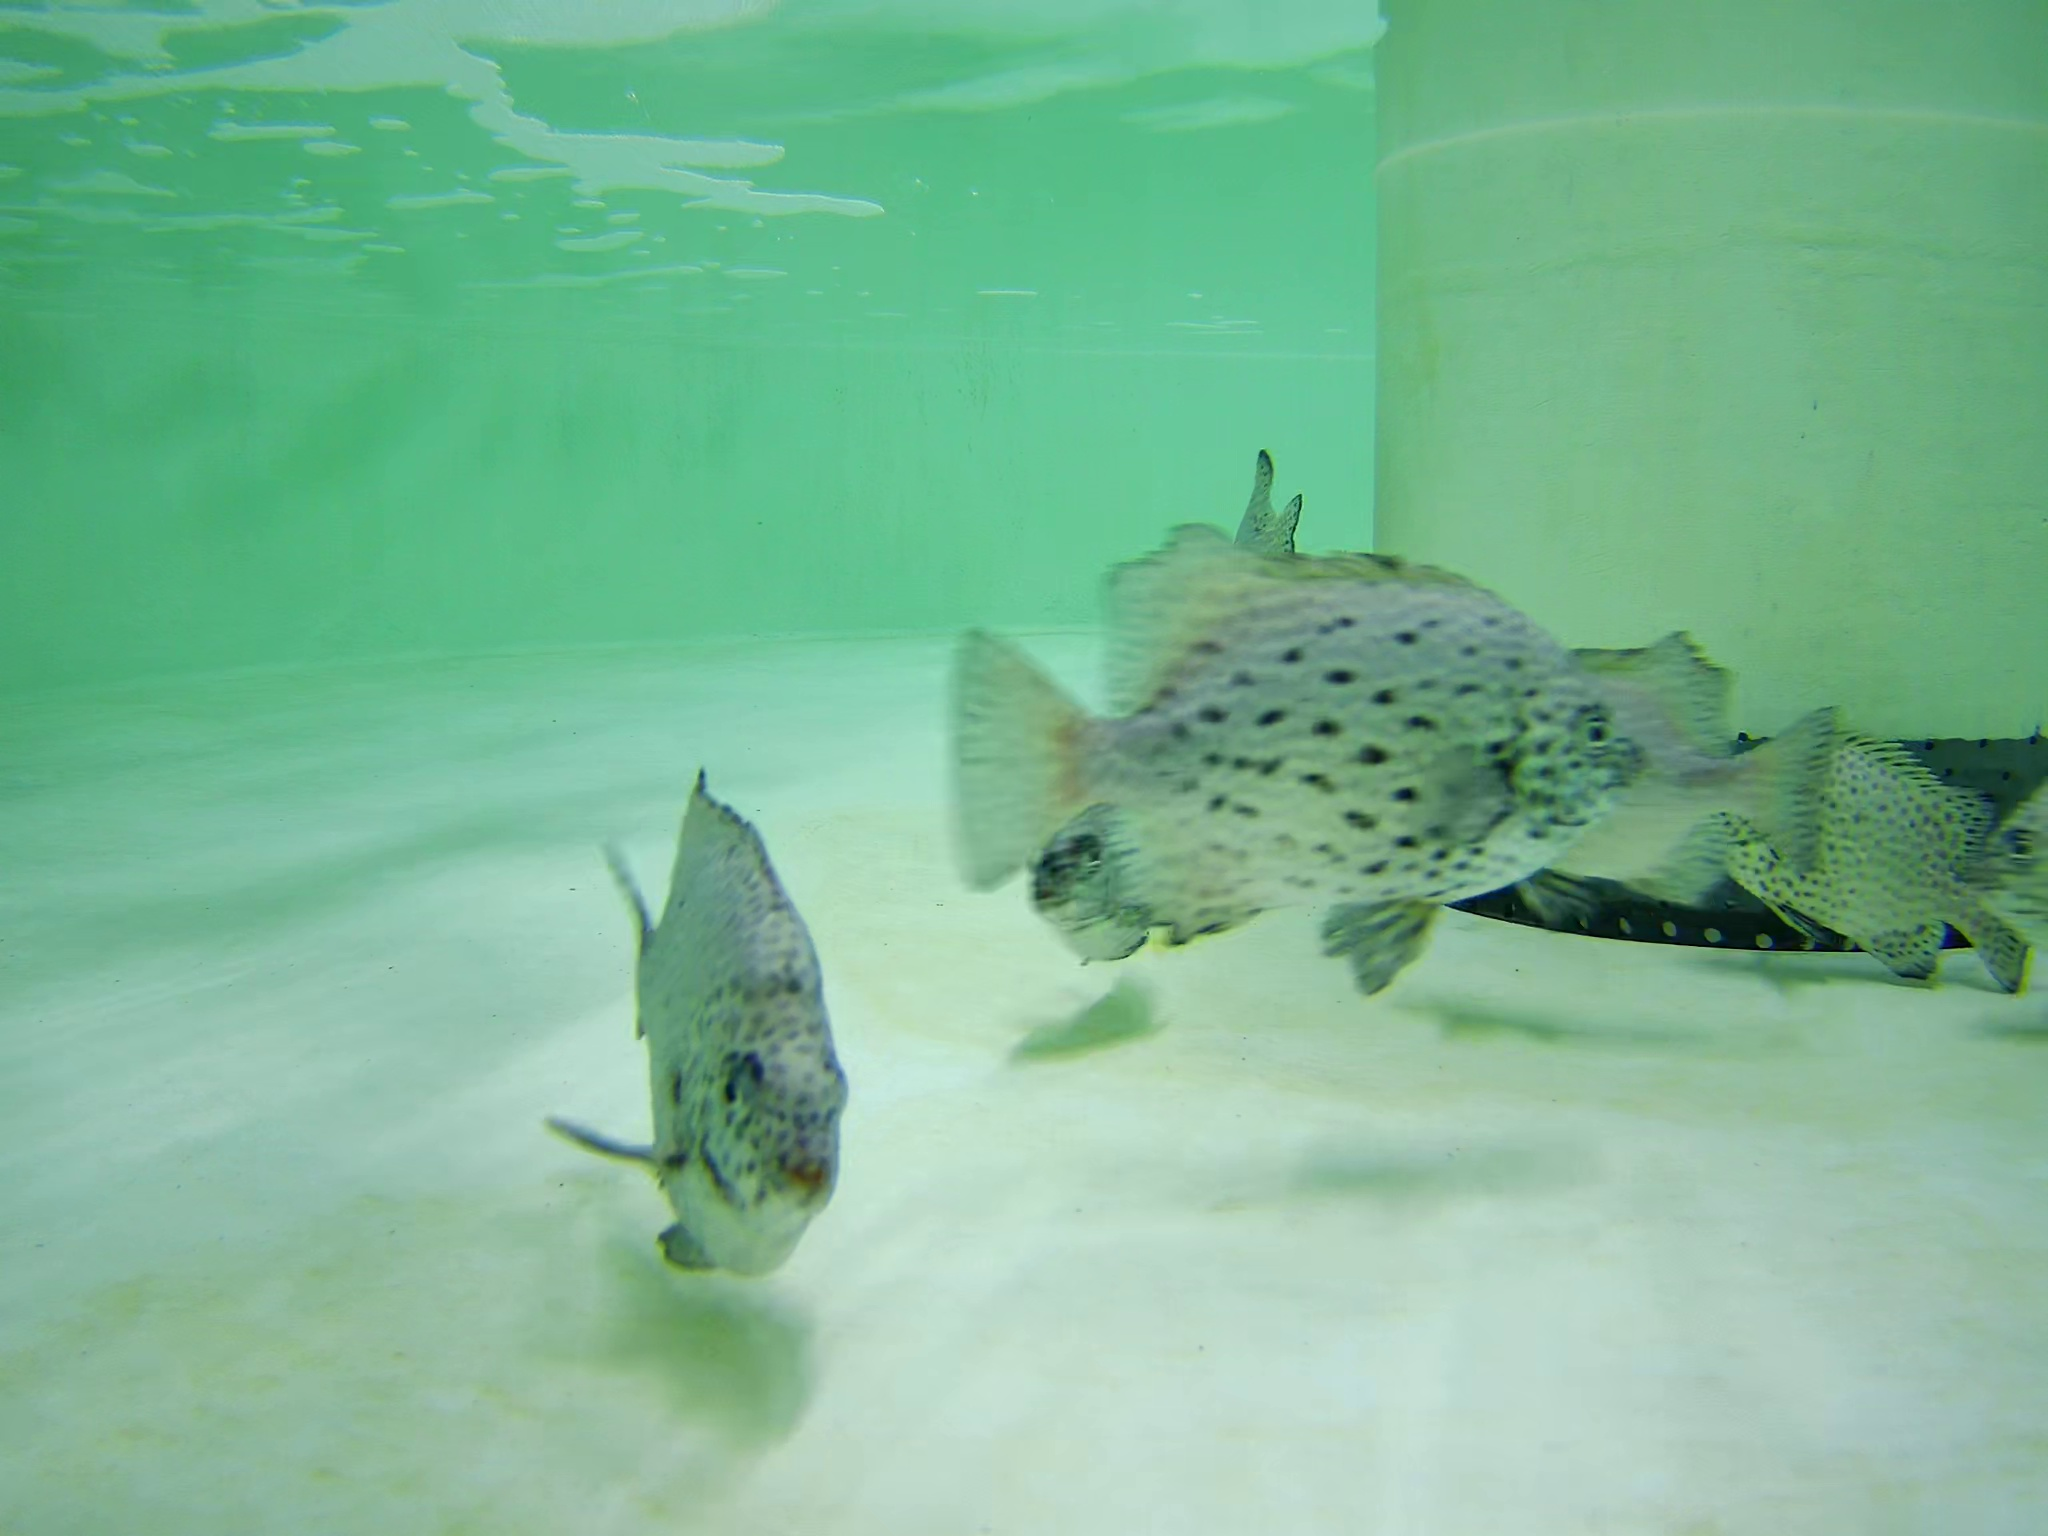fish: (926, 528, 1648, 957), (600, 760, 872, 1294), (1469, 621, 1830, 920), (1706, 699, 2033, 1018), (1037, 799, 1230, 955), (1972, 776, 2048, 937)
